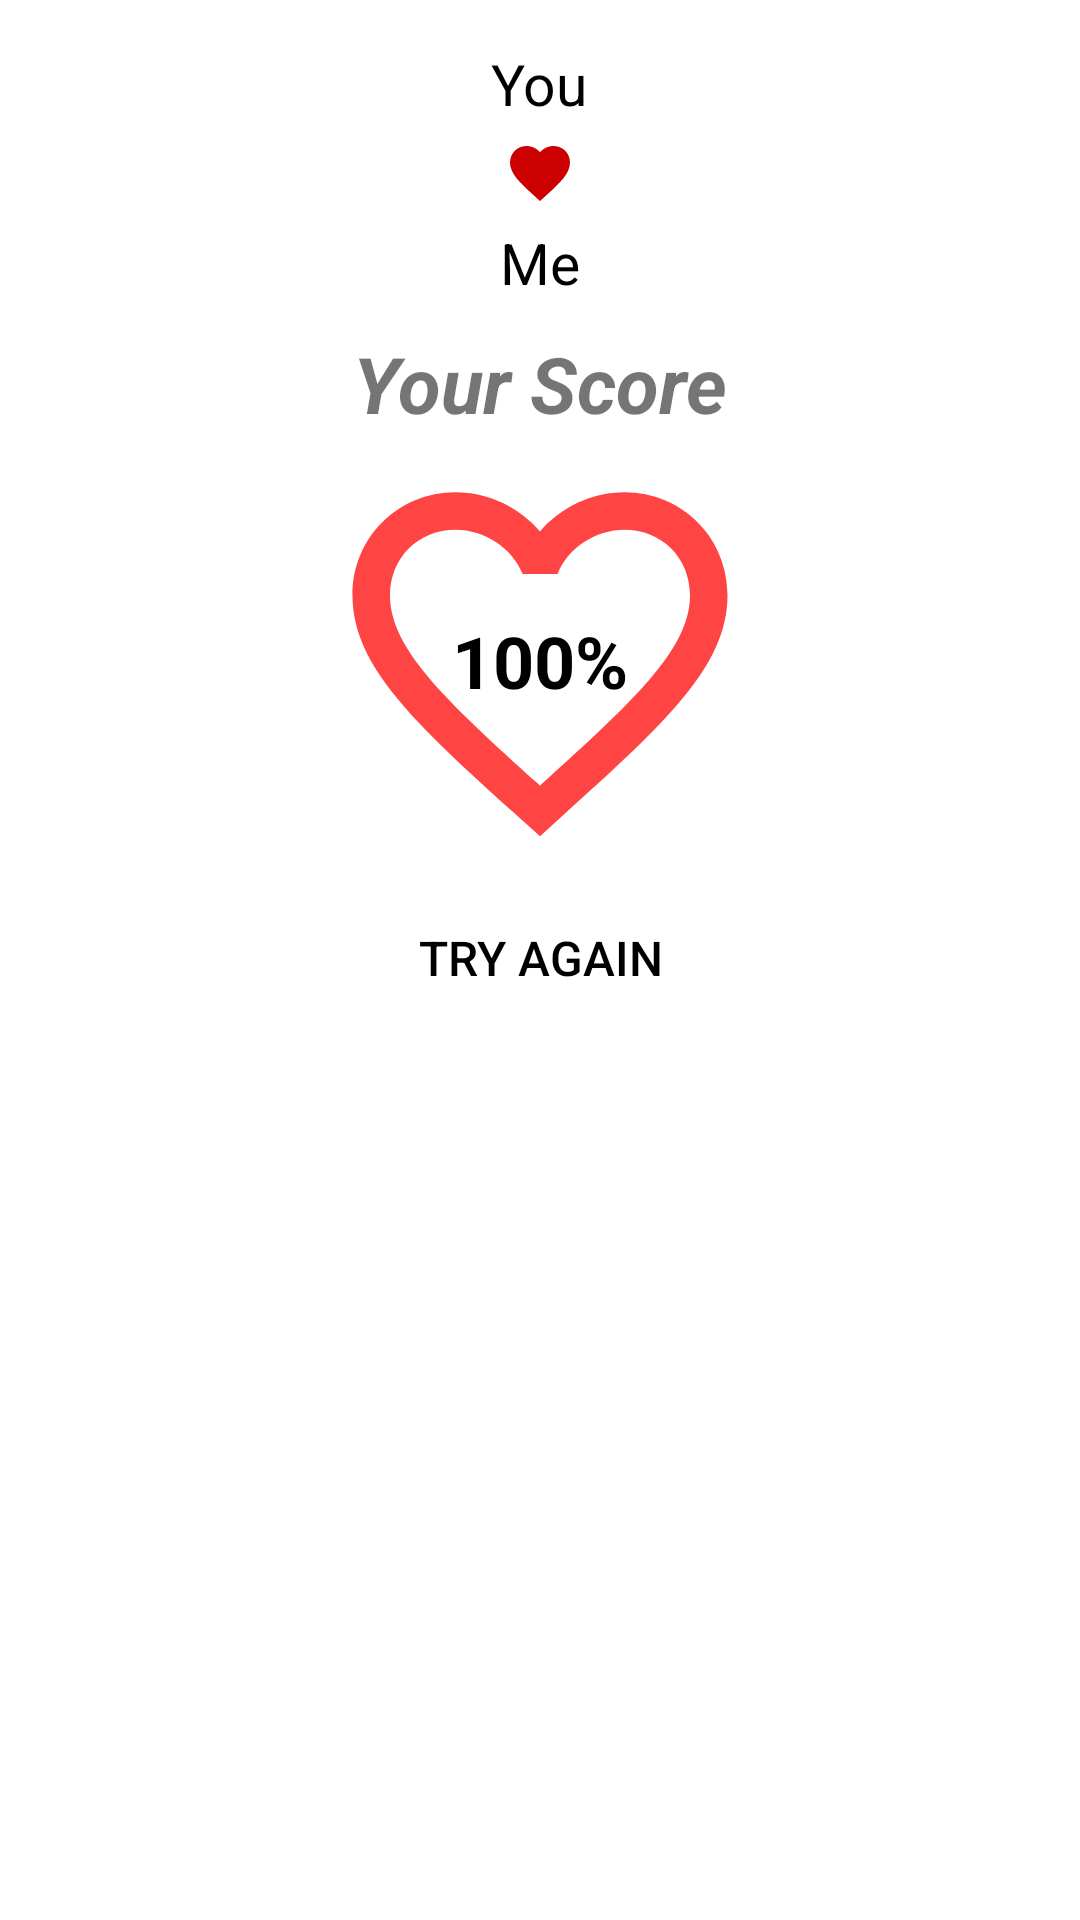

Screen size 1080 × 1920. Icon name, then its center in pixels as (x=x, y=y):
love: (x=540, y=173)
